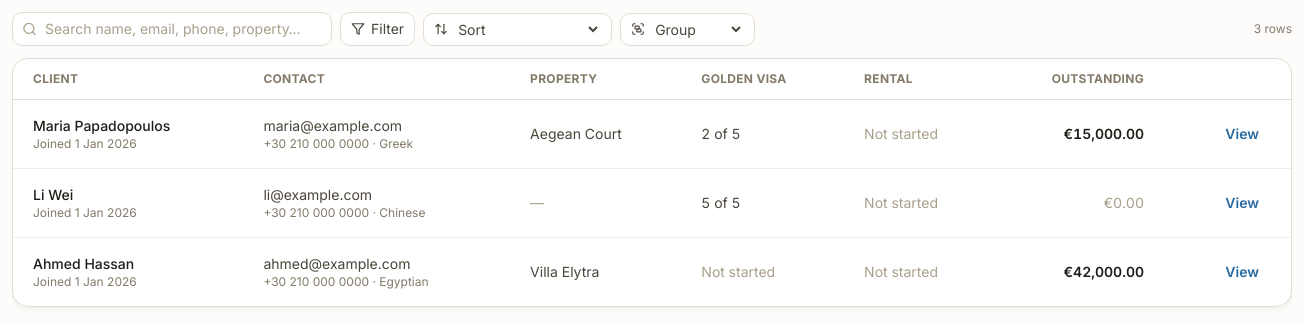
it: filtering the roster › narrows by search across name, email and property
Step 1. Type "elytra" into the search field named "Search this table" → (172, 29), box [12,12,332,46]
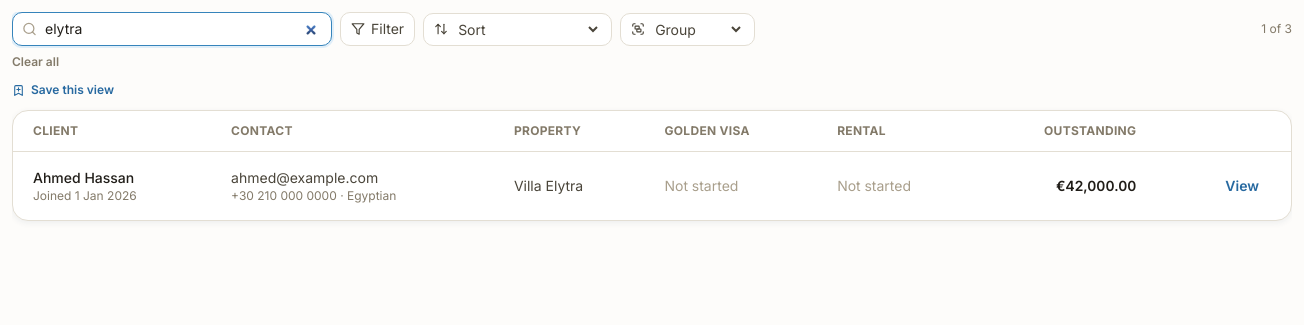
Expected: the text "Ahmed Hassan" is shown, [33,169,134,186]
Result: the text "Maria Papadopoulos" is gone
Result: the text "1 of 3" is shown at [1261,21,1292,37]
